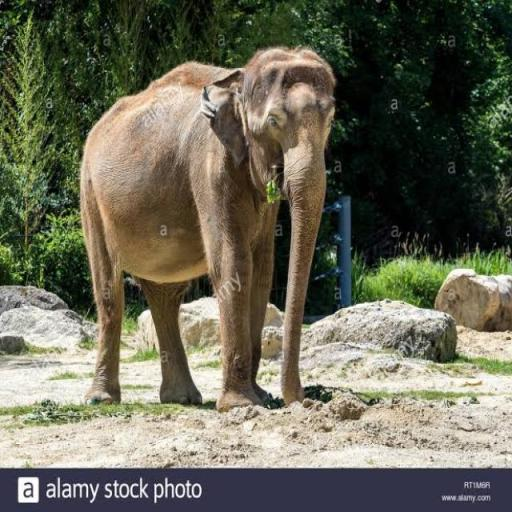Elephant: (78, 44, 337, 412)
